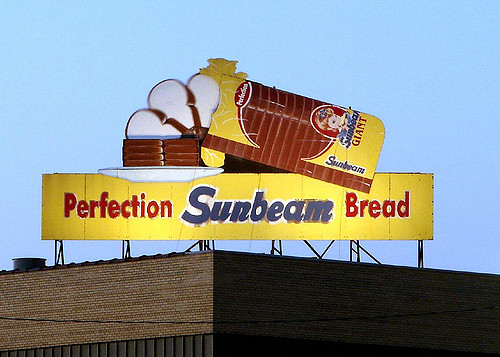slice of bread: (118, 109, 201, 173)
